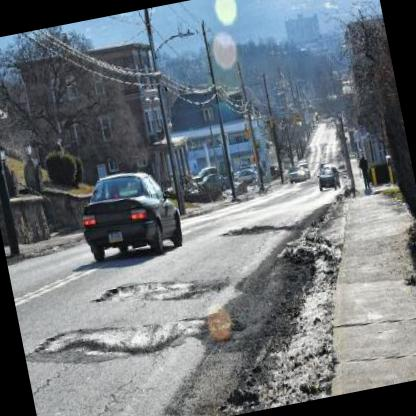pothole: (24, 306, 184, 375), (89, 269, 200, 318), (219, 219, 278, 241)
